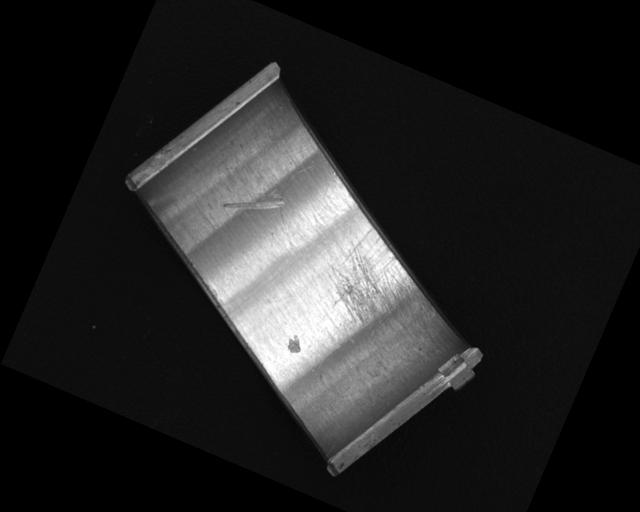bruise: (284, 332, 306, 357)
nick: (221, 173, 288, 229), (268, 156, 316, 231)
scratch: (309, 214, 454, 349)
